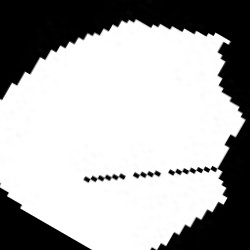spot: (1, 20, 246, 249)
